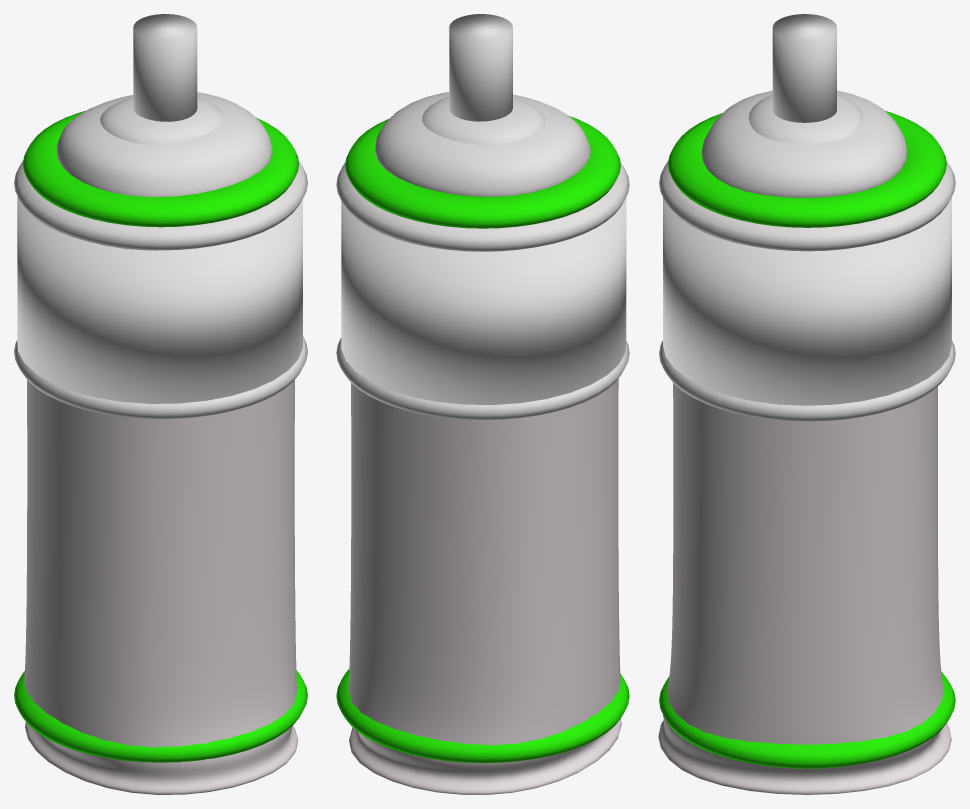
Rendered from Spray.glb.
3 views of the same model, side by side, from view 1: azimuth 30°, elevation 25°; view 2: azimuth 150°, elevation 25°; view 3: azimuth 270°, elevation 25° (orthographic).
Parts seen in each view (by area): view 1: Cube, Cylinder.001, Cube.001, Torus.003, Torus.001, Cylinder, Torus, Torus.002, Cube.002; view 2: Cube, Cylinder.001, Cube.001, Torus.003, Torus.001, Torus, Cylinder, Torus.002, Cube.002; view 3: Cube, Cylinder.001, Cube.001, Torus.003, Torus.001, Torus, Cylinder, Torus.002, Cube.002.
Boxes of the visible parts, x1,y1,x2,y2 form: Cube: (24,244,298,794); Cylinder.001: (17,196,302,403); Cube.001: (56,92,272,196); Torus.003: (23,111,298,227); Torus.001: (14,160,307,250); Cylinder: (133,14,197,121); Torus: (14,670,307,762); Torus.002: (14,336,307,419); Cube.002: (100,96,223,144); Cube: (348,378,621,794); Cylinder.001: (341,197,626,404); Cube.001: (375,92,590,196); Torus.003: (345,116,620,228); Torus.001: (336,162,629,251); Torus: (336,669,629,763); Cylinder: (449,14,512,121); Torus.002: (336,337,629,420); Cube.002: (422,96,545,145); Cube: (658,383,951,794); Cylinder.001: (663,197,951,405); Cube.001: (701,90,907,197); Torus.003: (668,111,946,227); Torus.001: (659,160,955,251); Torus: (659,671,955,768); Cylinder: (772,14,836,122); Torus.002: (659,340,955,421); Cube.002: (749,94,863,143).
Bounding box in the file's own units: 1.71 × 4.58 × 1.71.
